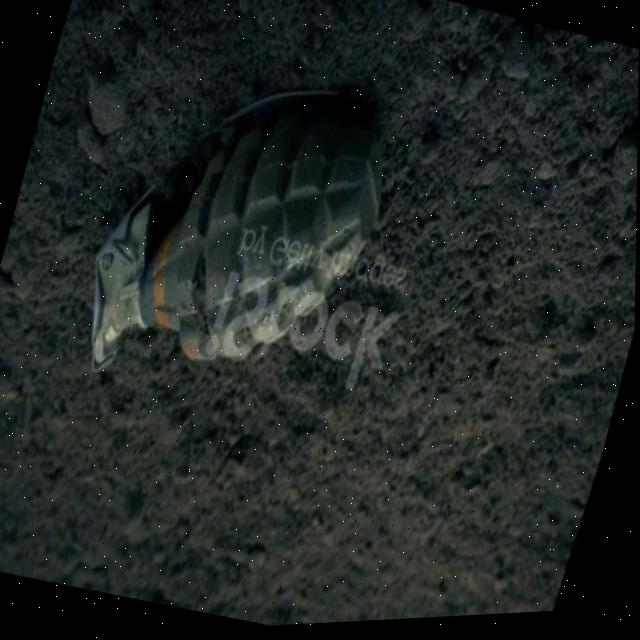grenade: (59, 31, 420, 440)
